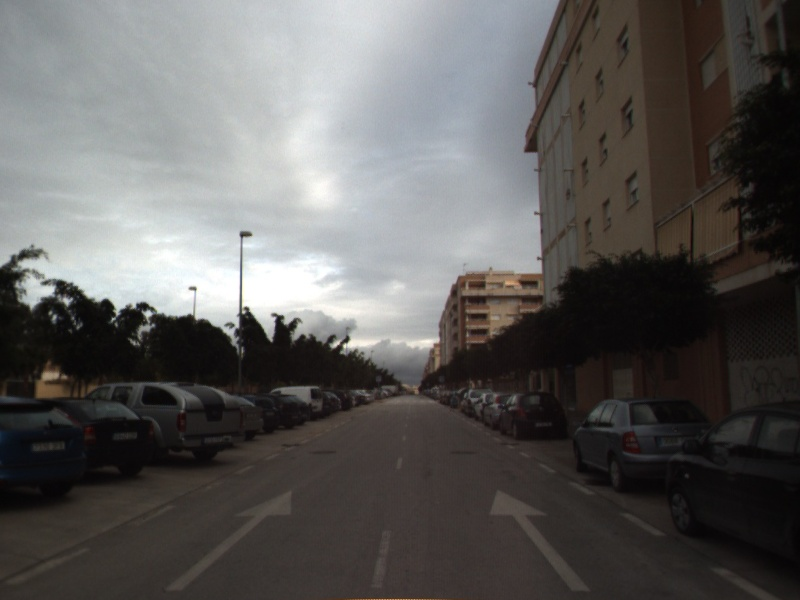STRAIGHT: (163, 488, 294, 593), (487, 487, 593, 593)
